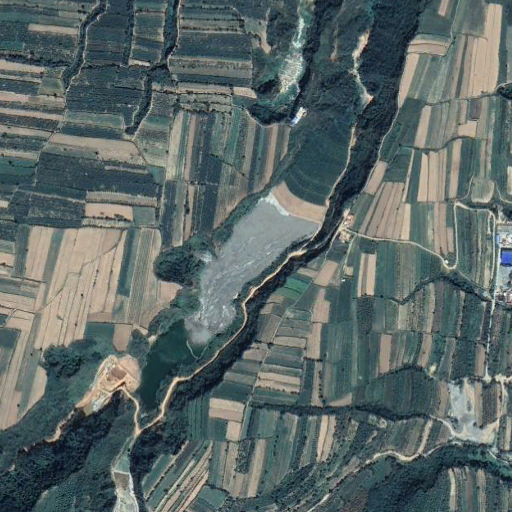tp: (138, 177, 327, 413)
